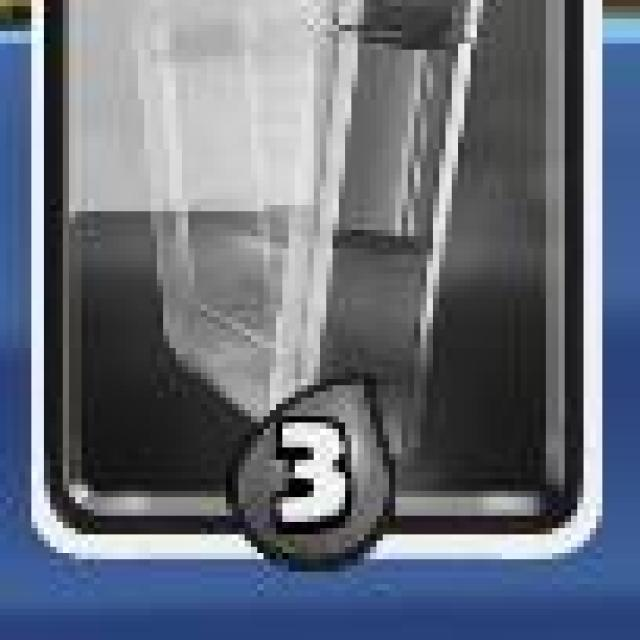Clone_Spell: (25, 0, 610, 572)
